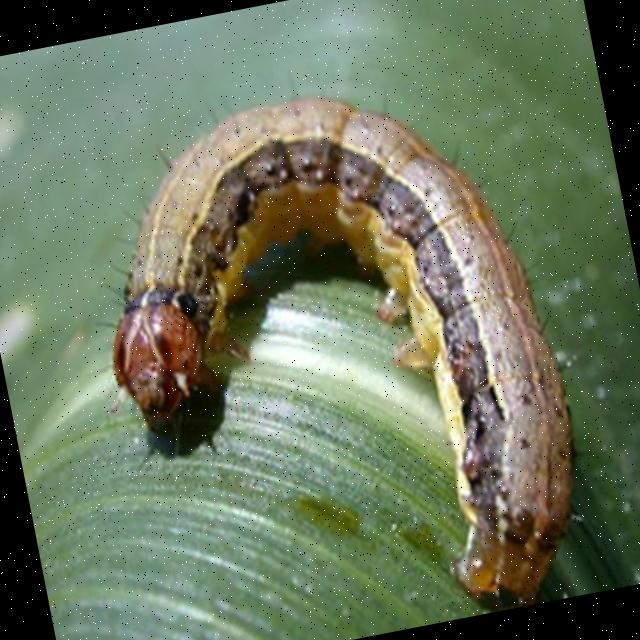worm: (60, 57, 609, 640)
